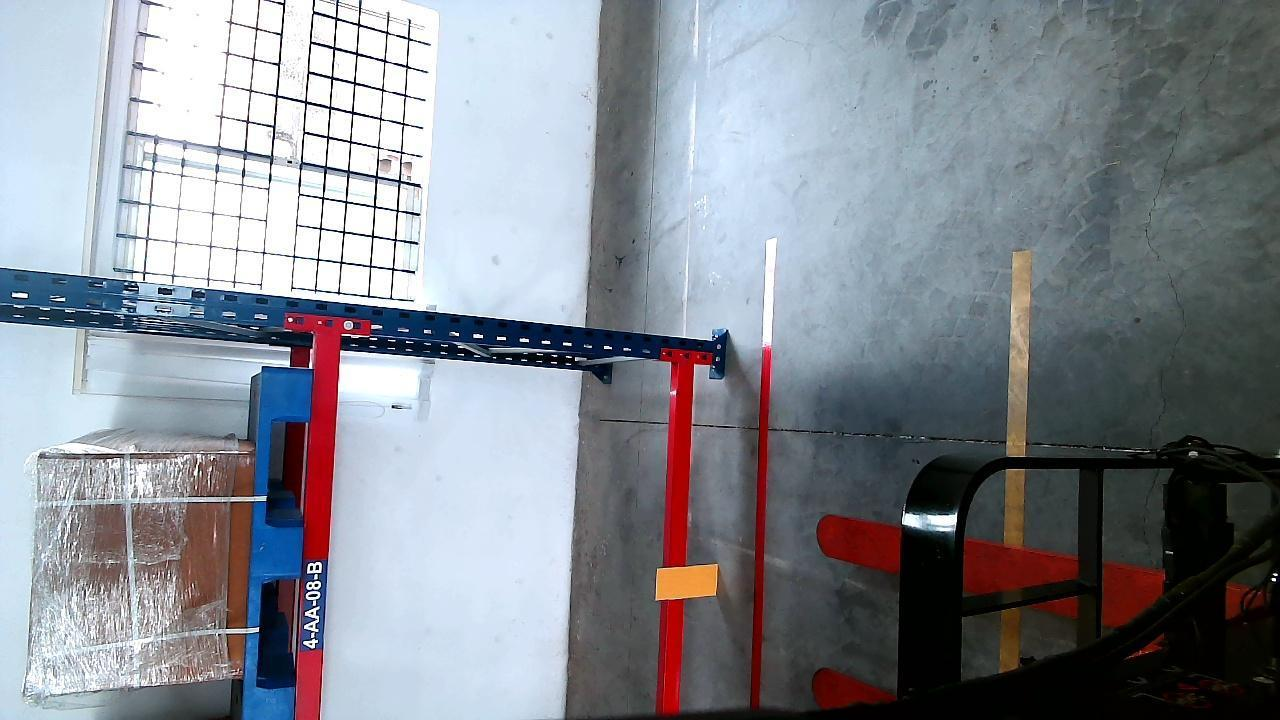h_rack: (297, 331, 344, 720), (664, 353, 694, 717)
orange_strip: (658, 564, 720, 599)
red_line: (748, 237, 777, 720)
small_pallet: (241, 367, 308, 720)
yellow_line: (1003, 249, 1031, 673)
